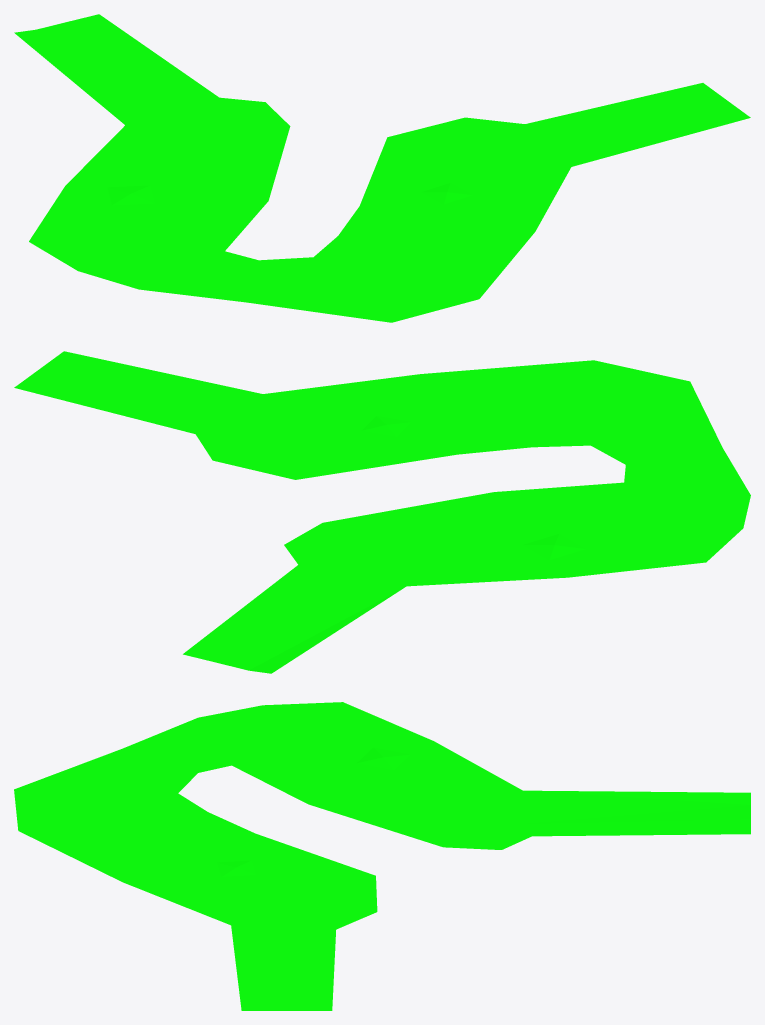
File: s07a_lc2-floor.glb
3 renders of one model, top to bottom at view 1: azimuth 30°, elevation 25°; view 2: azimuth 150°, elevation 25°; view 3: azimuth 270°, elevation 25°, orthographic. The views are drawn at different scales.
Parts seen in each view (by area): view 1: collision_floor-colonly; view 2: collision_floor-colonly; view 3: collision_floor-colonly.
Boxes of the visible parts, x1,y1,x2,y2 form: collision_floor-colonly: (14, 14, 750, 322); collision_floor-colonly: (14, 351, 750, 673); collision_floor-colonly: (14, 702, 750, 1010).
Size of the model in its own units: 47.99 by 0.1602 by 48.4.
